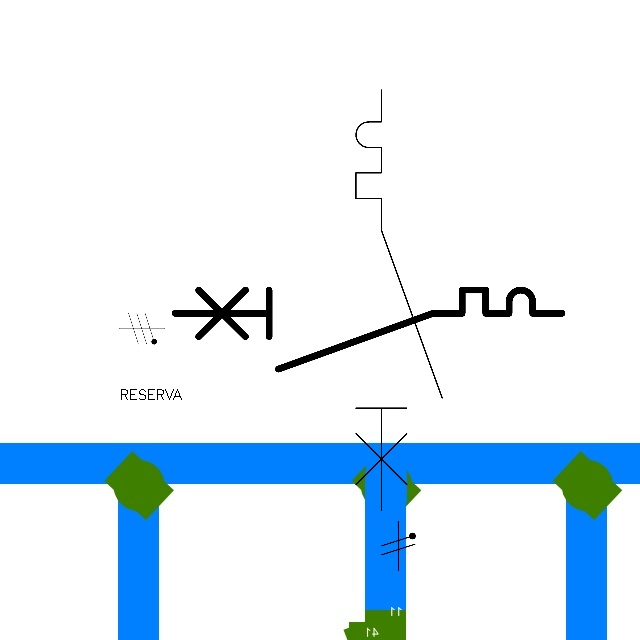interruptor_termomagnetico: (345, 79, 453, 521), (165, 280, 572, 379)
